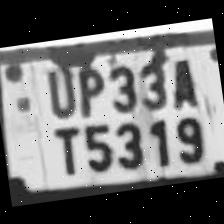1: (141, 112, 174, 170)
3: (130, 48, 168, 108), (101, 54, 139, 113), (107, 113, 145, 170)
5: (76, 114, 114, 172)
9: (167, 108, 209, 164)
A: (160, 49, 204, 110)
P: (68, 50, 108, 118)
T: (43, 117, 86, 177)
U: (36, 57, 76, 118)
